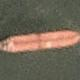ship: (0, 0, 40, 21)
